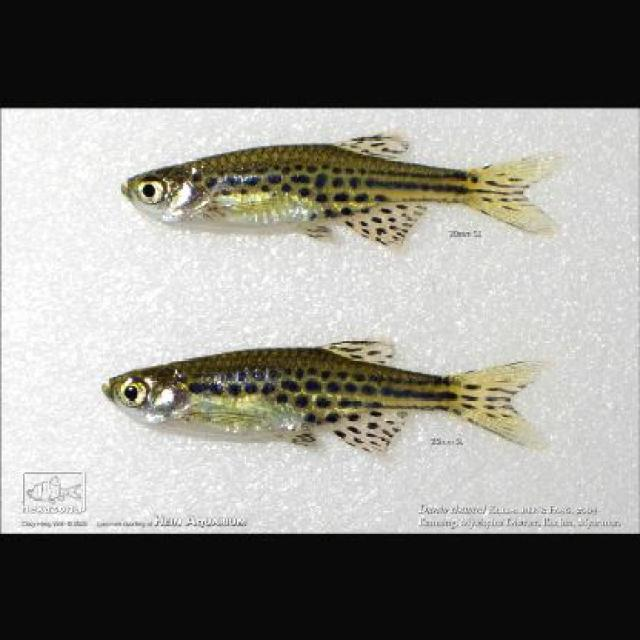ZebraFish: (97, 332, 549, 446), (116, 130, 564, 244)
